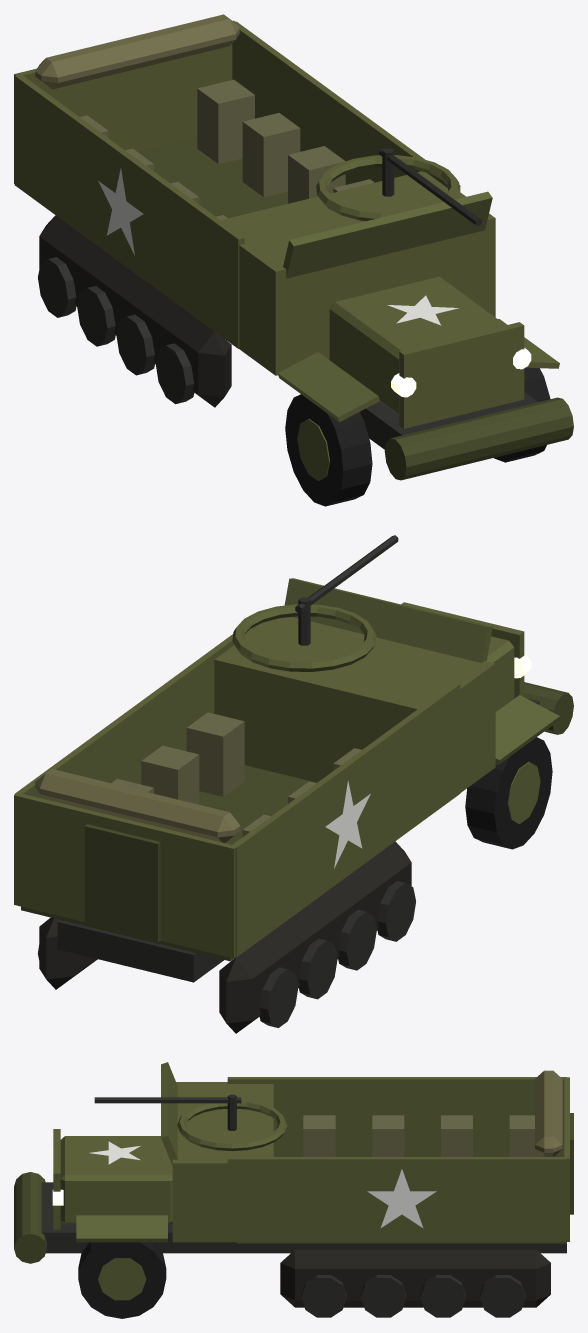
The model's file is halftrack.glb.
3 views of the same model, one above another, from view 1: azimuth 30°, elevation 25°; view 2: azimuth 150°, elevation 25°; view 3: azimuth 270°, elevation 25° (orthographic). The views are drawn at different scales.
Parts seen in each view (by area): view 1: Halftrack; view 2: Halftrack; view 3: Halftrack.
Part boxes in pixels (x1,y1,x2,y2): Halftrack: [14, 14, 573, 506]; Halftrack: [14, 535, 573, 1033]; Halftrack: [14, 1062, 573, 1318].
Bounding box in the file's own units: 2.2 × 2.4 × 6.11.
